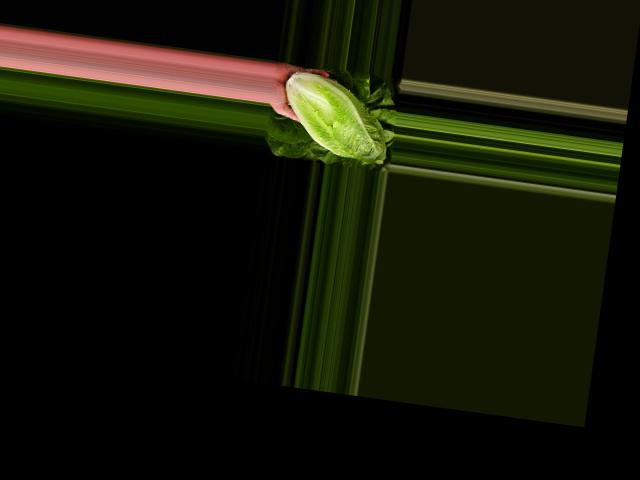lettuce: (275, 66, 396, 165)
